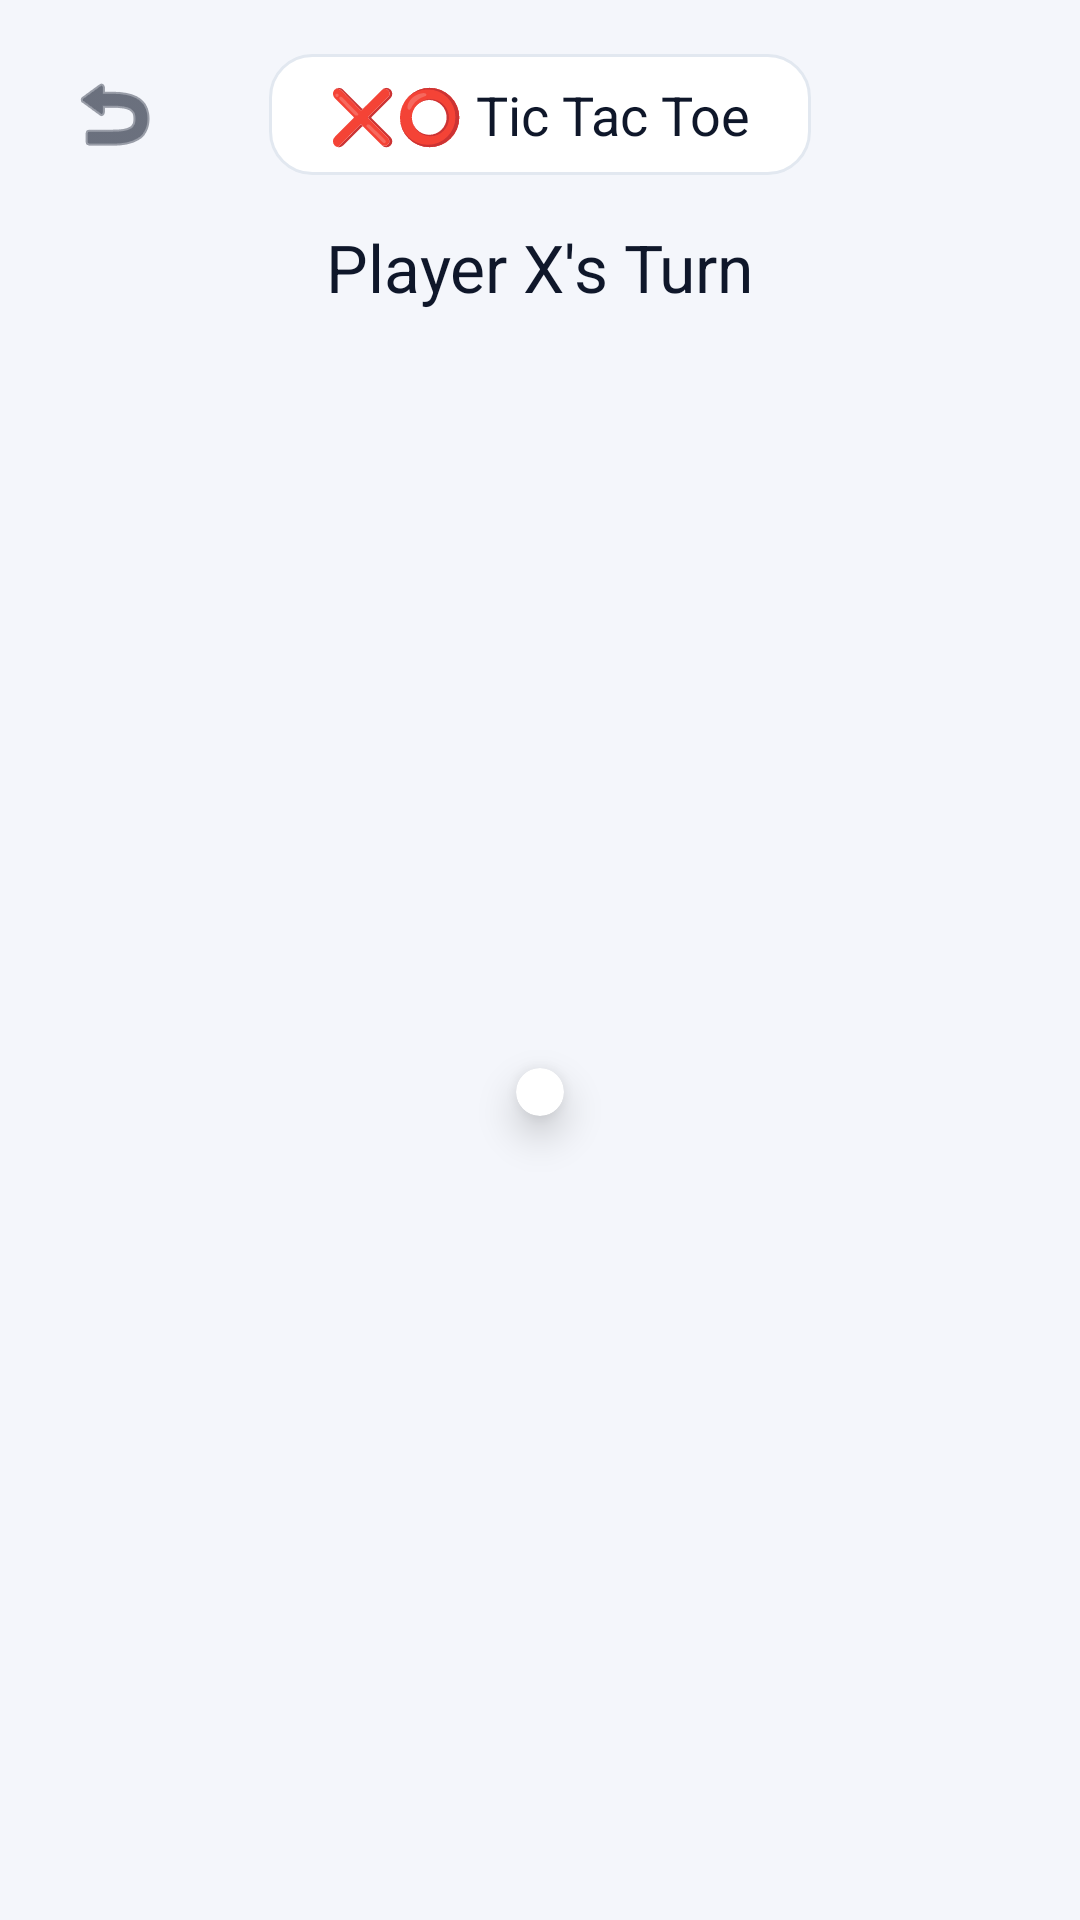

Icon bounding boxes for this 1080 x 1920 phone screenshot, format (x1, y1, x2, y2):
revert: (81, 83, 150, 146)
